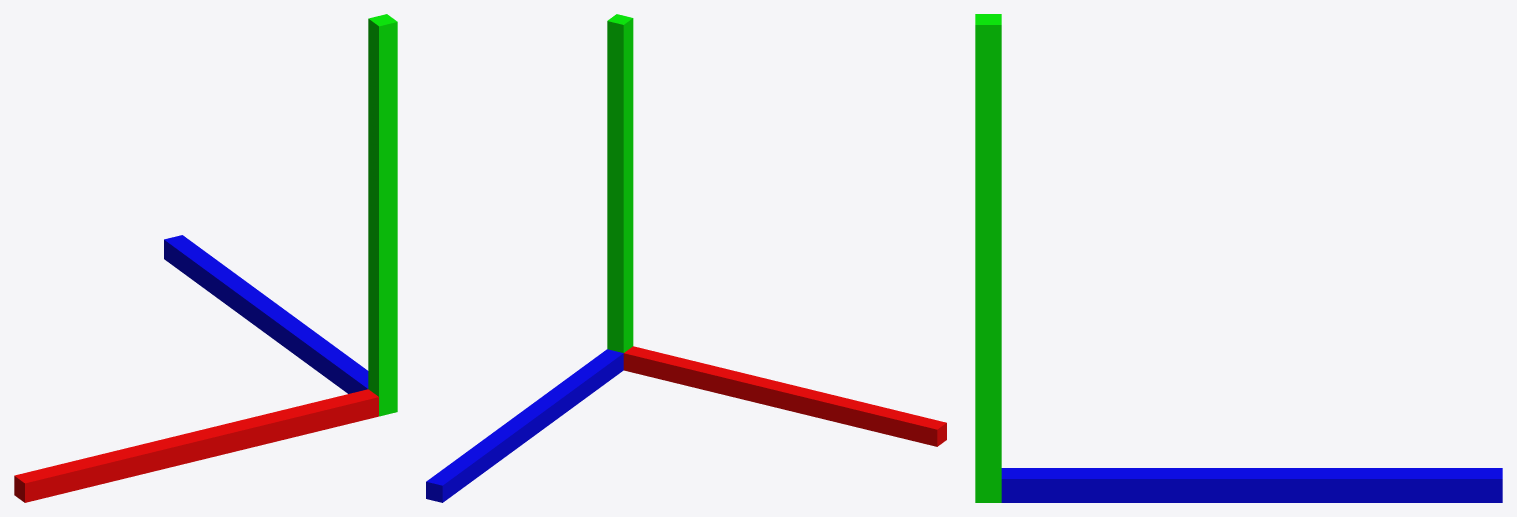
The model's file is nav_cube.obj.
3 renders of one model, left to right at view 1: azimuth 30°, elevation 25°; view 2: azimuth 150°, elevation 25°; view 3: azimuth 270°, elevation 25°, orthographic. The views are drawn at different scales.
Parts seen in each view (by area): view 1: Cube; view 2: Cube; view 3: Cube.
Part boxes in pixels (x1,y1,x2,y2): Cube: (14, 14, 397, 502); Cube: (426, 14, 946, 502); Cube: (975, 14, 1502, 502).
Size of the model in its own units: 2 by 2 by 2.
Materials: 1 (1 with a texture image).
